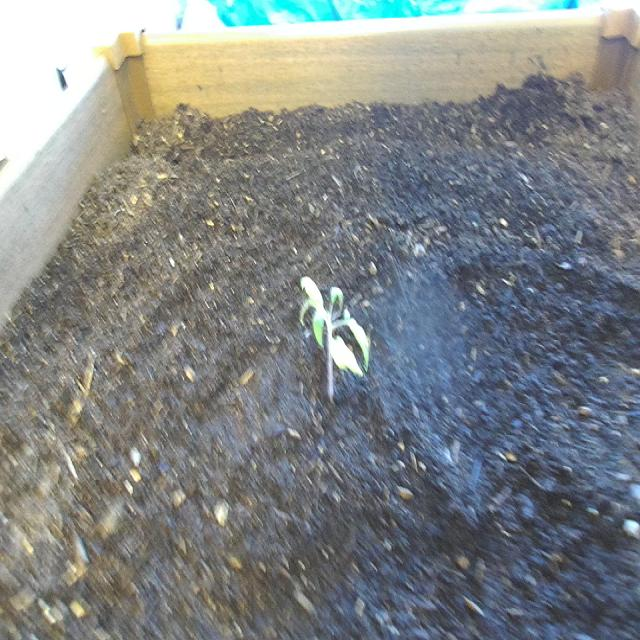Healthy: (295, 269, 375, 413)
